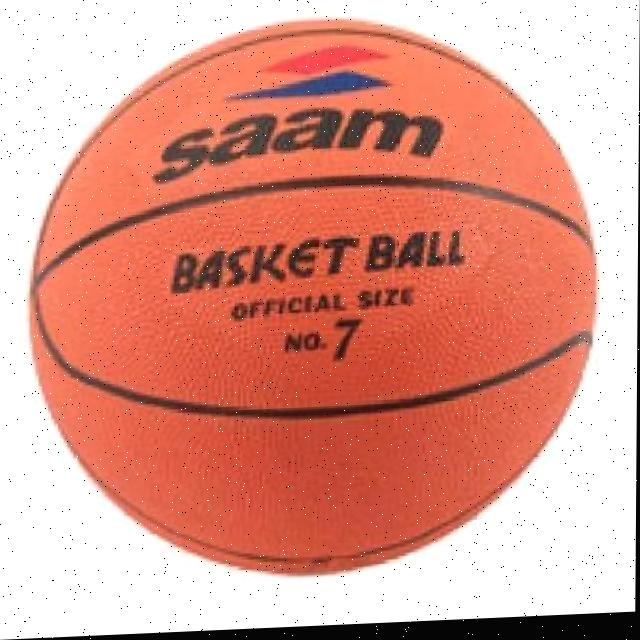Basketball: (23, 6, 604, 591)
